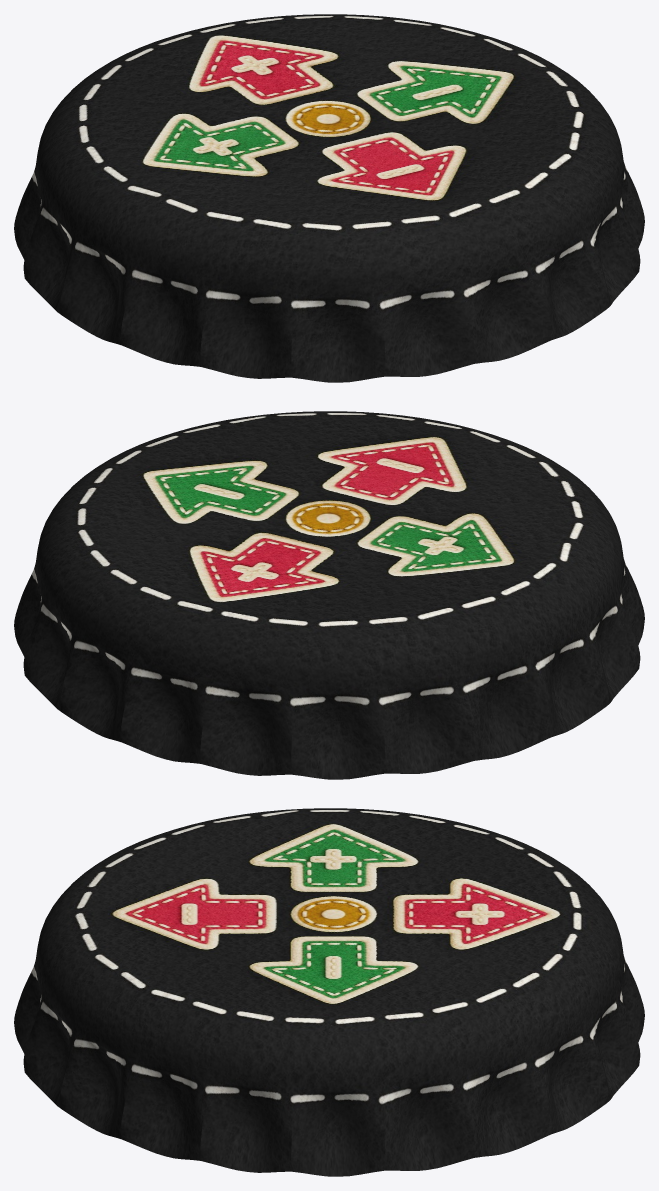
The model's file is strzalki_cmyk.glb.
3 renders of one model, top to bottom at view 1: azimuth 30°, elevation 25°; view 2: azimuth 150°, elevation 25°; view 3: azimuth 270°, elevation 25°, orthographic.
Parts seen in each view (by area): view 1: Kapsel_LOD0_strzalki_cmyk; view 2: Kapsel_LOD0_strzalki_cmyk; view 3: Kapsel_LOD0_strzalki_cmyk.
Part boxes in pixels (<box>): Kapsel_LOD0_strzalki_cmyk: <box>14,14,644,382</box>; Kapsel_LOD0_strzalki_cmyk: <box>14,411,644,779</box>; Kapsel_LOD0_strzalki_cmyk: <box>14,808,644,1176</box>.
Bounding box in the file's own units: 29.9 × 7 × 29.92.
2 materials, 2 textured.
